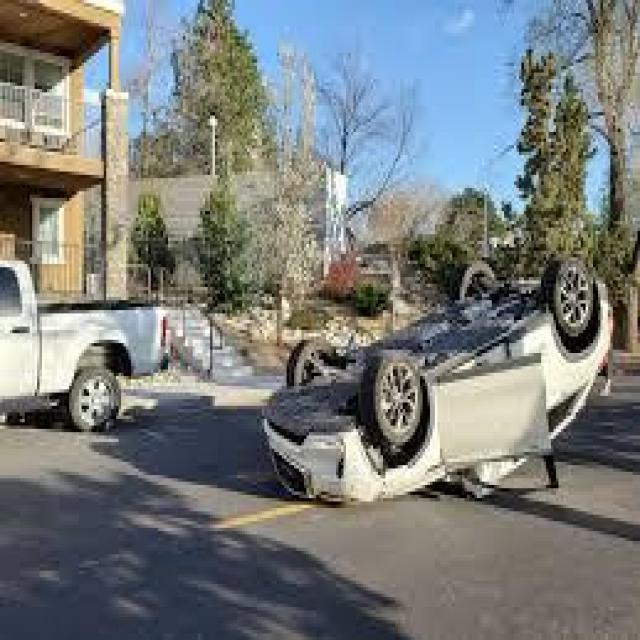accident: (258, 248, 614, 512)
